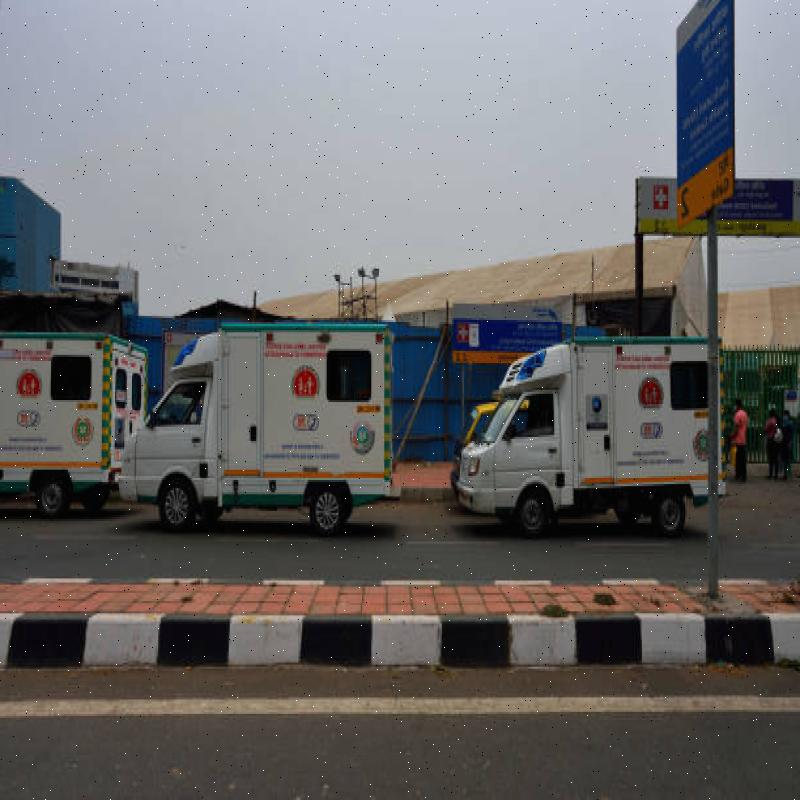ambulance: (123, 317, 404, 546), (463, 338, 719, 536), (0, 333, 113, 509)
